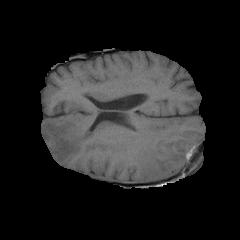glioma: (42, 119, 202, 180)
